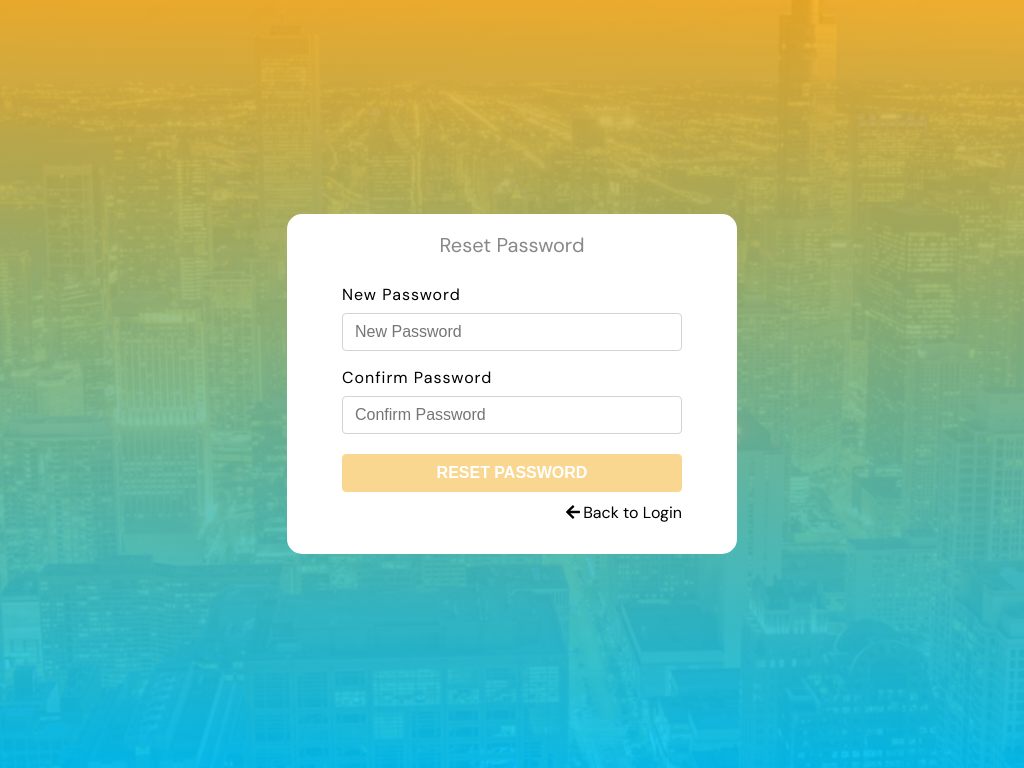
Test: ResetPwd › should be enabled with input
Expected: the button is disabled, [342, 454, 682, 492]
Type "qwerty1" into the password field labelled "New Password" at (512, 332), box [342, 313, 682, 351]
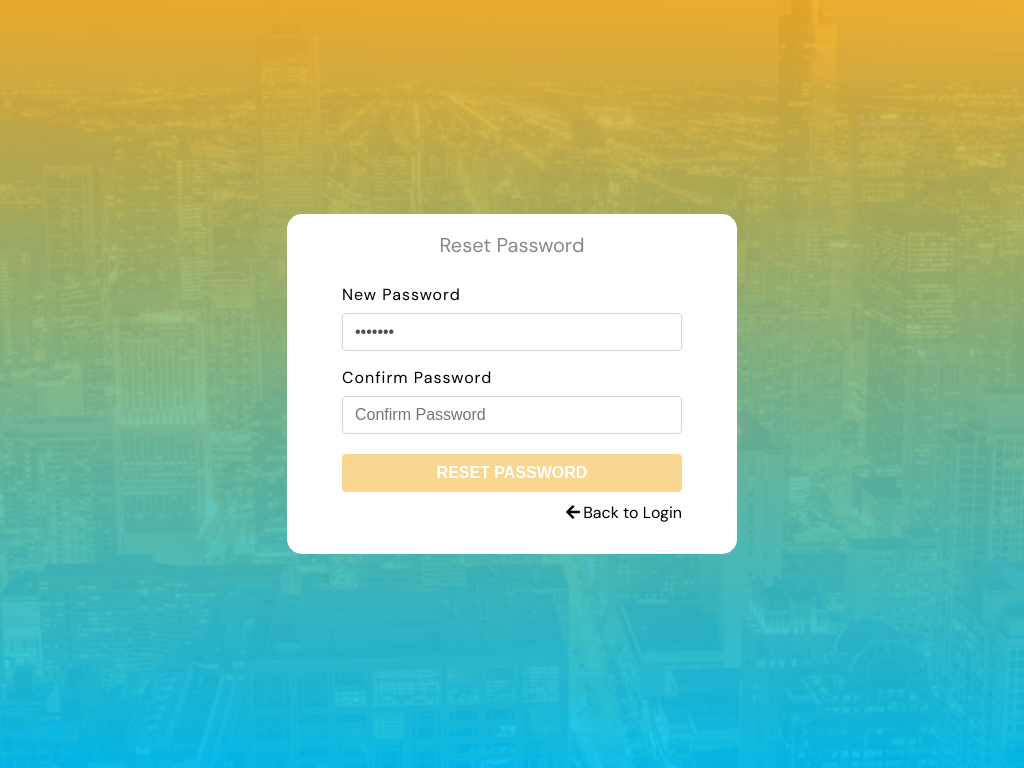
Type "qwerty1" into the password field labelled "Confirm Password" at (512, 415), box [342, 396, 682, 434]
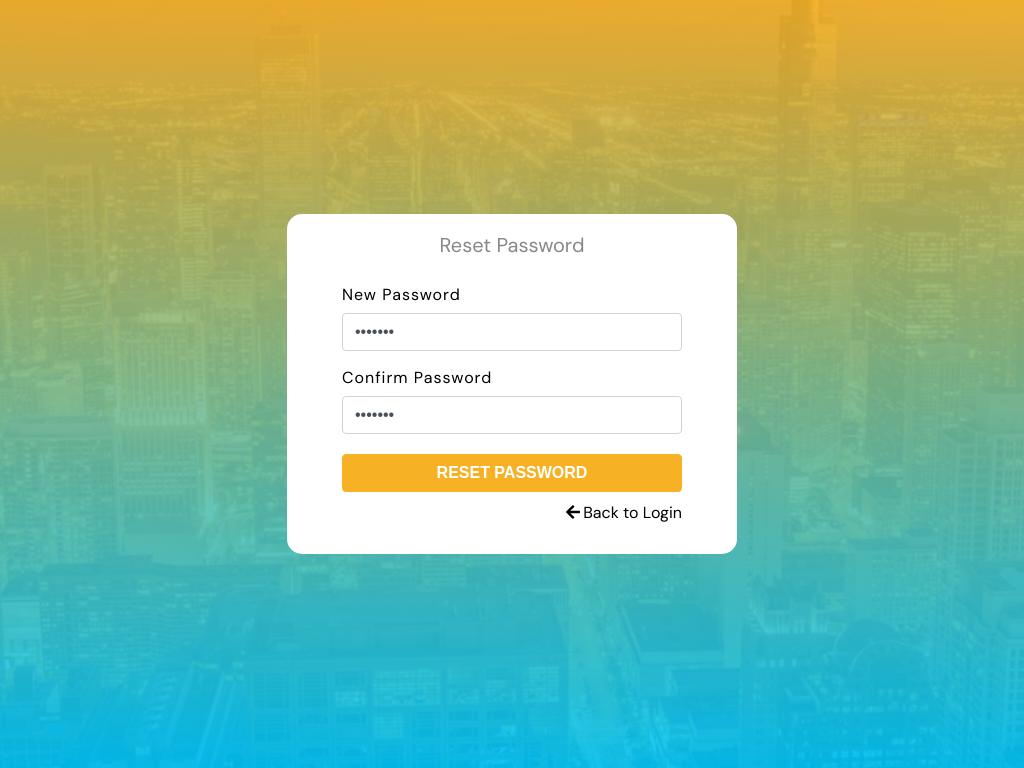
Now the button is enabled, box [342, 454, 682, 492]
